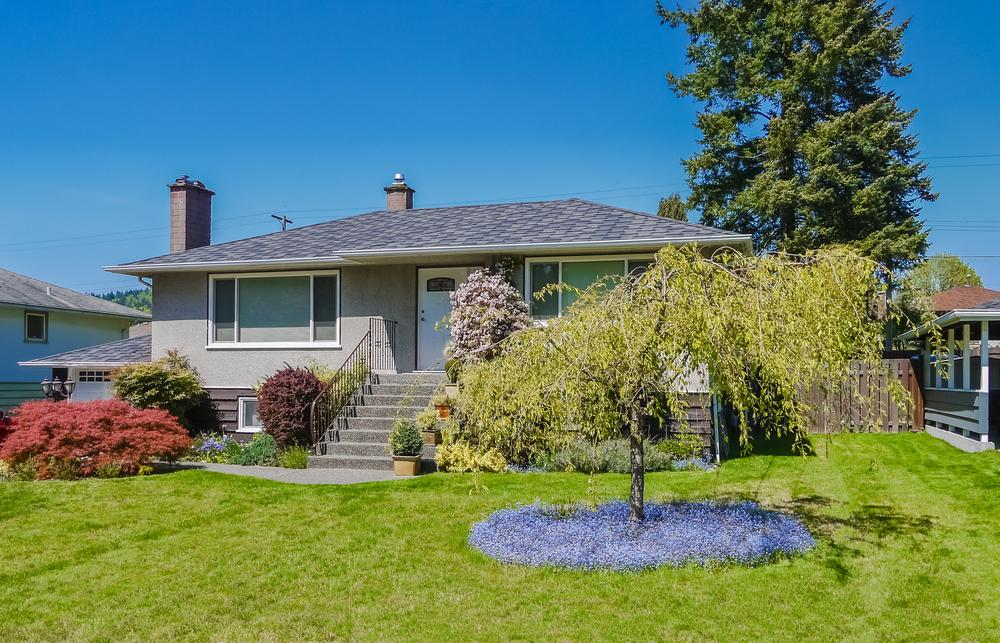bush: (6, 399, 187, 477), (247, 371, 330, 449)
tree: (434, 257, 888, 522), (656, 1, 931, 357)
